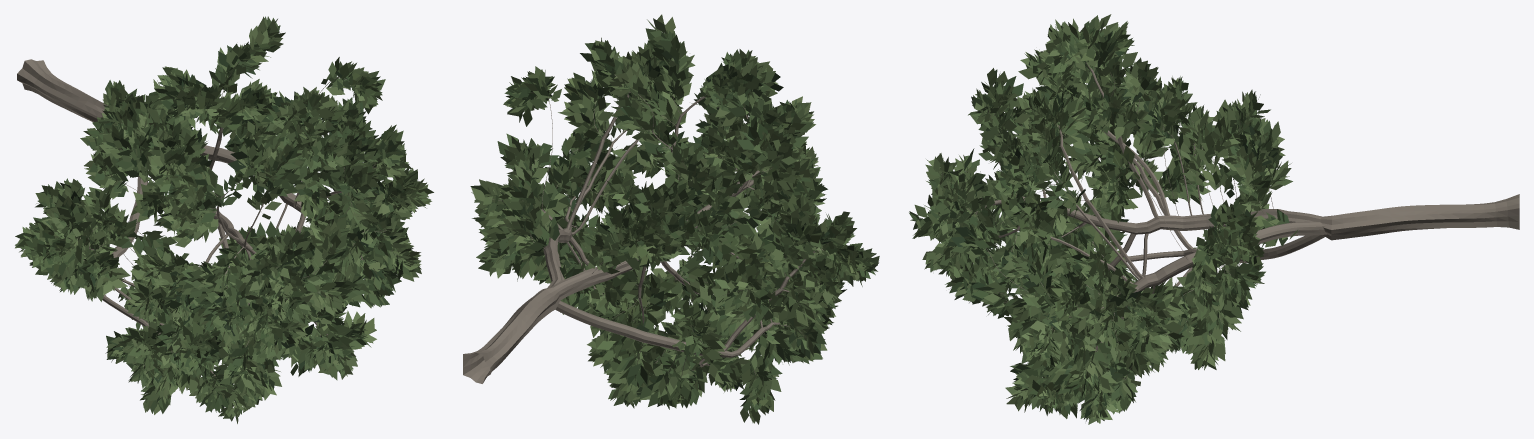
File: tree_near_08.obj
3 views of the same model, side by side, from view 1: azimuth 30°, elevation 25°; view 2: azimuth 150°, elevation 25°; view 3: azimuth 270°, elevation 25° (orthographic). The views are drawn at different scales.
Parts seen in each view (by area): view 1: tree_near_08; view 2: tree_near_08; view 3: tree_near_08.
Part boxes in pixels (bbox=[...]): tree_near_08: bbox=[15, 16, 433, 423]; tree_near_08: bbox=[463, 14, 879, 424]; tree_near_08: bbox=[909, 14, 1519, 424].
Size of the model in its own units: 0.7723 by 0.7072 by 0.9971.
Materials: 1 (1 with a texture image).
